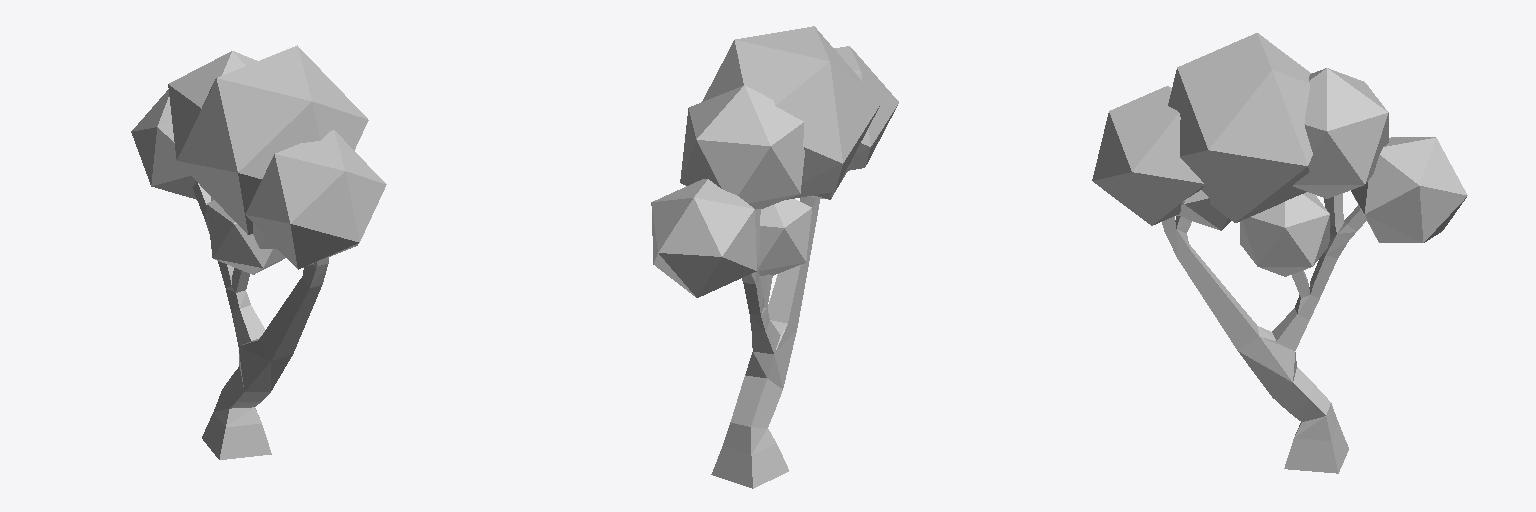
The model's file is tree2.obj.
3 views of the same model, side by side, from view 1: azimuth 30°, elevation 25°; view 2: azimuth 150°, elevation 25°; view 3: azimuth 270°, elevation 25° (orthographic).
Parts seen in each view (by area): view 1: Icosphere.005, Icosphere, Cube, Icosphere.002, Icosphere.001, Icosphere.003; view 2: Icosphere.005, Icosphere.001, Cube, Icosphere.002, Icosphere.003, Icosphere; view 3: Icosphere.005, Cube, Icosphere, Icosphere.002, Icosphere.001, Icosphere.003, Icosphere.004.
Part boxes in pixels (bbox=[...]): Icosphere.005: bbox=[177, 45, 368, 234]; Icosphere: bbox=[245, 130, 386, 269]; Cube: bbox=[192, 182, 328, 459]; Icosphere.002: bbox=[131, 89, 196, 199]; Icosphere.001: bbox=[168, 51, 257, 158]; Icosphere.003: bbox=[207, 200, 285, 274]; Icosphere.005: bbox=[702, 26, 880, 199]; Icosphere.001: bbox=[680, 85, 804, 209]; Cube: bbox=[711, 197, 819, 488]; Icosphere.002: bbox=[651, 179, 756, 297]; Icosphere.003: bbox=[757, 199, 811, 275]; Icosphere: bbox=[834, 46, 898, 170]; Icosphere.005: bbox=[1168, 33, 1312, 222]; Cube: bbox=[1162, 193, 1366, 473]; Icosphere: bbox=[1092, 86, 1204, 225]; Icosphere.002: bbox=[1351, 137, 1467, 242]; Icosphere.001: bbox=[1293, 68, 1388, 198]; Icosphere.003: bbox=[1240, 192, 1329, 276]; Icosphere.004: bbox=[1176, 190, 1230, 230].
Bounding box in the file's own units: 0.492 × 1.25 × 1.04.